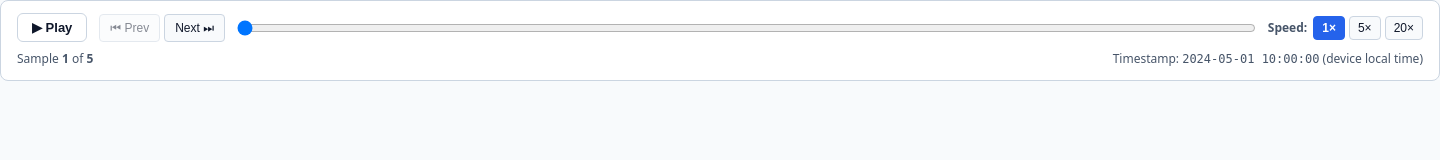
it: Replay Player Component & Controls (T16-010) › steps forward and backward using Next and Prev stepper buttons
expect the button named "previous sample" is disabled: met, box [99,14,160,42]
Note: Step forward to sample index 1
Click the button named "next sample".
click(195, 28)  # box [164,14,225,42]
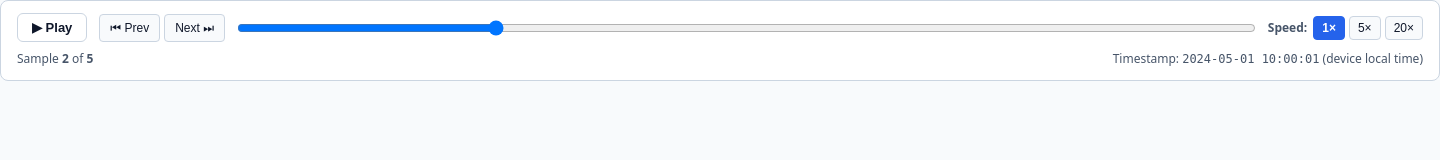
expect the text "2024-05-01 10:00:01" is shown: met, box [1182,52,1320,66]
expect the button named "previous sample" is enabled: met, box [99,14,160,42]
Note: Step forward to index 2
Click the button named "next sample".
click(195, 28)  # box [164,14,225,42]
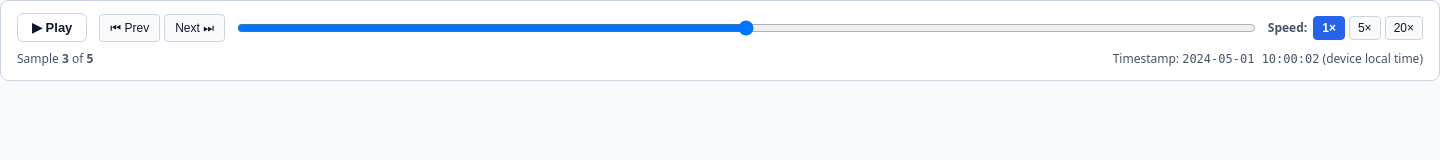
expect the text "2024-05-01 10:00:02" is shown: met, box [1182,52,1320,66]
Note: Step backward to index 1
Click the button named "previous sample".
click(130, 28)  # box [99,14,160,42]
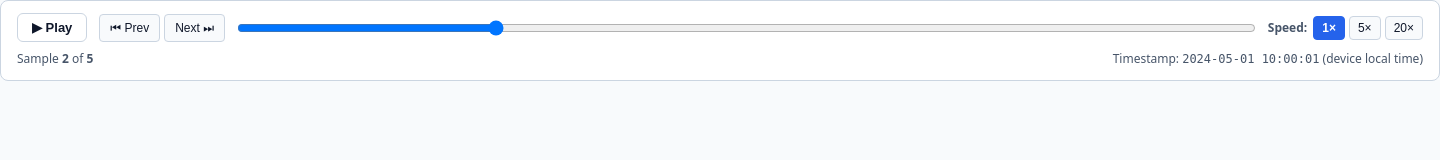
expect the text "2024-05-01 10:00:01" is shown: met, box [1182,52,1320,66]
